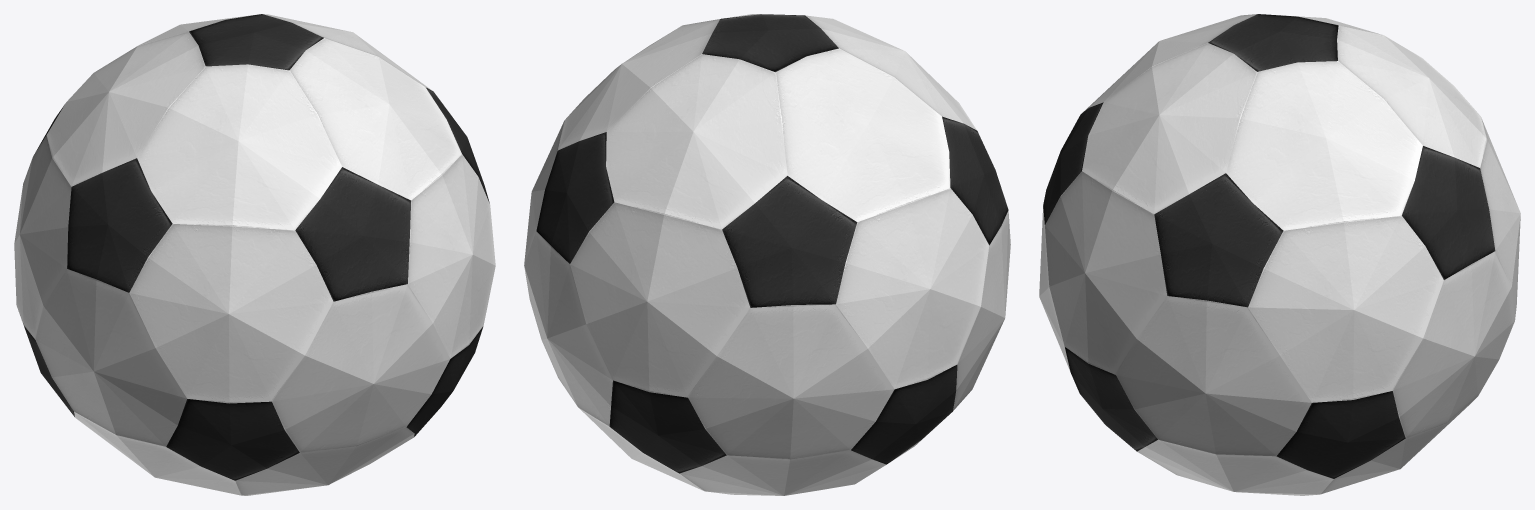
The model's file is Soccer Ball.obj.
3 views of the same model, side by side, from view 1: azimuth 30°, elevation 25°; view 2: azimuth 150°, elevation 25°; view 3: azimuth 270°, elevation 25° (orthographic).
Visible parts, largest first — view 1: default_default1; view 2: default_default1; view 3: default_default1.
Part boxes in pixels (x1,y1,x2,y2): default_default1: [14, 14, 495, 495]; default_default1: [524, 14, 1010, 495]; default_default1: [1039, 14, 1520, 495].
Size of the model in its own units: 59.68 by 61 by 59.58.
1 material, 1 textured.
